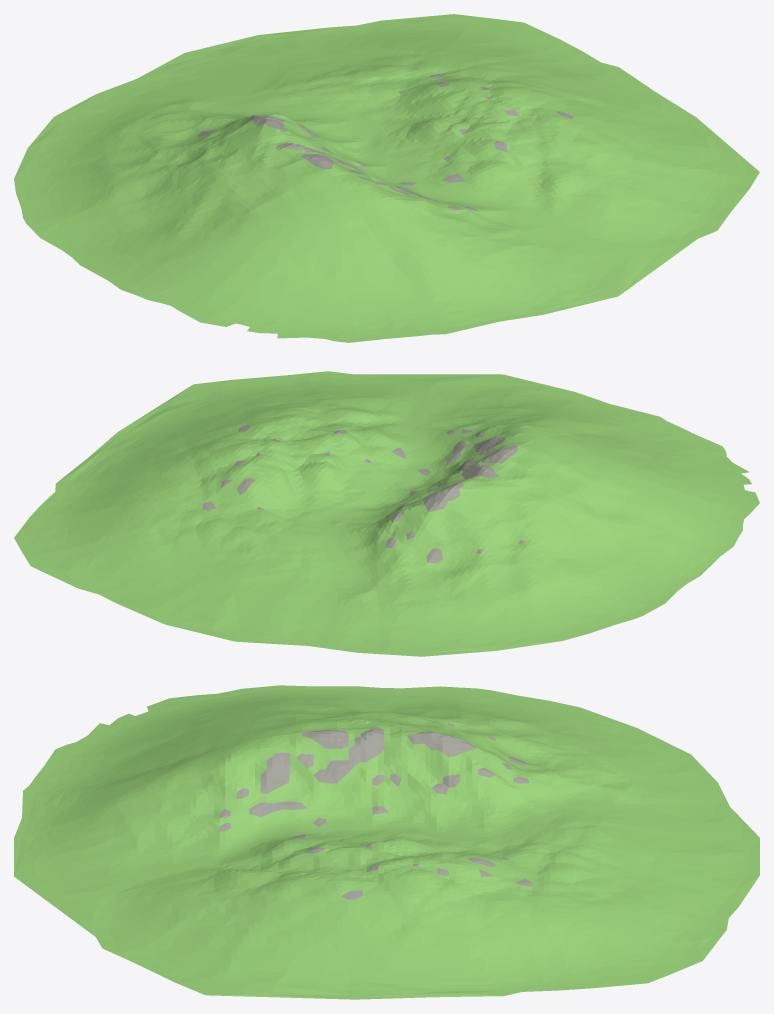
File: CPT_Island_L_f_08.fbx
The picture shows the model from 3 angles, top to bottom: view 1: azimuth 30°, elevation 25°; view 2: azimuth 150°, elevation 25°; view 3: azimuth 270°, elevation 25°; orthographic projection. The views are drawn at different scales.
Visible parts, largest first — view 1: CPT_Island_L_f_08; view 2: CPT_Island_L_f_08; view 3: CPT_Island_L_f_08.
Part boxes in pixels (x1,y1,x2,y2): CPT_Island_L_f_08: [14, 14, 759, 342]; CPT_Island_L_f_08: [14, 371, 759, 656]; CPT_Island_L_f_08: [14, 685, 759, 999].
Bounding box in the file's own units: 19866 × 2017 × 20000.
